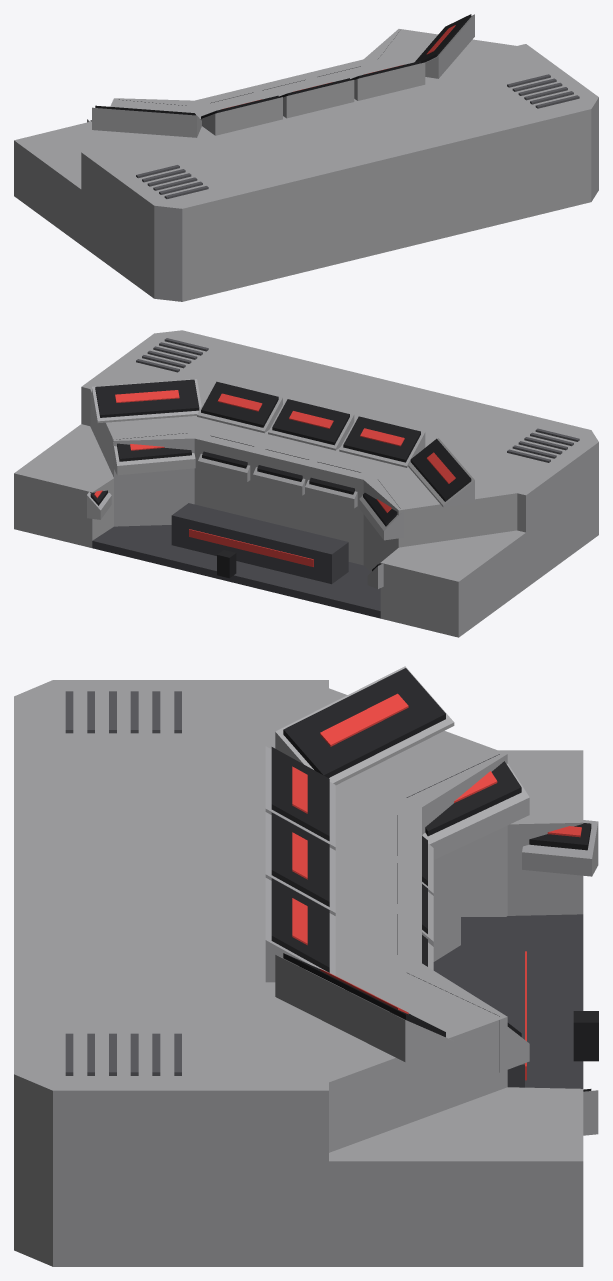
Rendered from vge_e_pilot_bridge.obj.
3 views of the same model, one above another, from view 1: azimuth 30°, elevation 25°; view 2: azimuth 150°, elevation 25°; view 3: azimuth 270°, elevation 25° (orthographic). The views are drawn at different scales.
Parts seen in each view (by area): view 1: vge_pilot_bridge_0, vge_pilot_bridge_8, vge_pilot_bridge_32, vge_pilot_bridge_26, vge_pilot_bridge_20, vge_pilot_bridge_23, vge_pilot_bridge_29, vge_pilot_bridge_30; view 2: vge_pilot_bridge_0, vge_pilot_bridge_8, vge_pilot_bridge_1, vge_pilot_bridge_15, vge_pilot_bridge_16, vge_pilot_bridge_30, vge_pilot_bridge_27, vge_pilot_bridge_21, vge_pilot_bridge_24, vge_pilot_bridge_33, vge_pilot_bridge_44, vge_pilot_bridge_17 (+16 smaller); view 3: vge_pilot_bridge_0, vge_pilot_bridge_1, vge_pilot_bridge_15, vge_pilot_bridge_8, vge_pilot_bridge_33, vge_pilot_bridge_29, vge_pilot_bridge_16, vge_pilot_bridge_21, vge_pilot_bridge_27, vge_pilot_bridge_24, vge_pilot_bridge_50, vge_pilot_bridge_32 (+10 smaller).
Part boxes in pixels (<box>): vge_pilot_bridge_0: <box>81,29,598,301</box>; vge_pilot_bridge_8: <box>14,121,98,244</box>; vge_pilot_bridge_32: <box>92,107,201,137</box>; vge_pilot_bridge_26: <box>200,97,282,135</box>; vge_pilot_bridge_20: <box>354,62,425,100</box>; vge_pilot_bridge_23: <box>283,80,354,118</box>; vge_pilot_bridge_29: <box>425,14,474,78</box>; vge_pilot_bridge_30: <box>415,14,471,63</box>; vge_pilot_bridge_0: <box>81,330,598,587</box>; vge_pilot_bridge_8: <box>380,530,525,637</box>; vge_pilot_bridge_1: <box>14,424,113,547</box>; vge_pilot_bridge_15: <box>92,525,380,618</box>; vge_pilot_bridge_16: <box>171,503,348,584</box>; vge_pilot_bridge_30: <box>95,379,199,417</box>; vge_pilot_bridge_27: <box>343,416,420,462</box>; vge_pilot_bridge_21: <box>201,381,278,427</box>; vge_pilot_bridge_24: <box>272,399,349,445</box>; vge_pilot_bridge_33: <box>410,438,471,501</box>; vge_pilot_bridge_44: <box>112,439,195,475</box>; vge_pilot_bridge_17: <box>189,529,313,567</box>; vge_pilot_bridge_0: <box>14,680,507,1266</box>; vge_pilot_bridge_1: <box>329,1087,583,1266</box>; vge_pilot_bridge_15: <box>433,914,583,1088</box>; vge_pilot_bridge_8: <box>498,750,583,915</box>; vge_pilot_bridge_33: <box>283,668,445,777</box>; vge_pilot_bridge_29: <box>275,955,454,1062</box>; vge_pilot_bridge_16: <box>461,917,524,1087</box>; vge_pilot_bridge_21: <box>271,878,329,972</box>; vge_pilot_bridge_27: <box>271,747,329,841</box>; vge_pilot_bridge_24: <box>271,812,329,906</box>; vge_pilot_bridge_50: <box>422,750,529,859</box>; vge_pilot_bridge_32: <box>275,666,454,785</box>.
Size of the model in its own units: 5 by 1.25 by 3.01.
